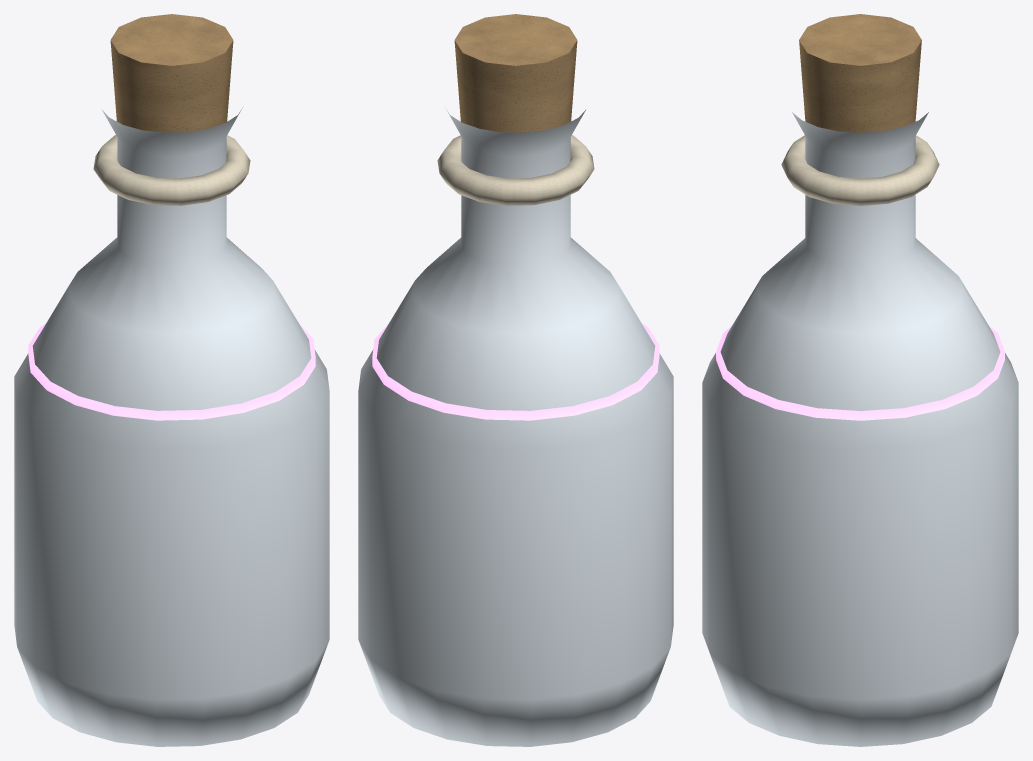
File: restore_potion.glb
3 renders of one model, left to right at view 1: azimuth 30°, elevation 25°; view 2: azimuth 150°, elevation 25°; view 3: azimuth 270°, elevation 25°, orthographic.
Parts seen in each view (by area): view 1: restore_potion; view 2: restore_potion; view 3: restore_potion.
Boxes of the visible parts, x1=… form: restore_potion: x1=14, y1=14, x2=329, y2=746; restore_potion: x1=358, y1=14, x2=673, y2=746; restore_potion: x1=702, y1=14, x2=1018, y2=746.
Bounding box in the file's own units: 0.092 × 0.21 × 0.092.
Materials: 5 (2 with a texture image).
